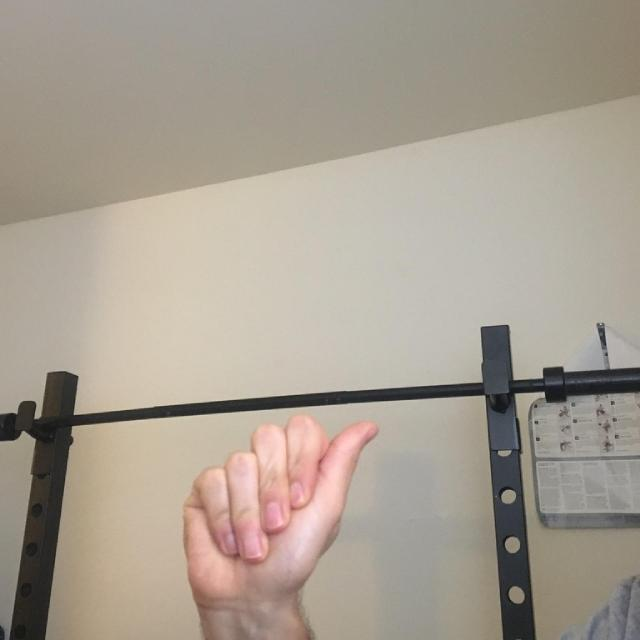A: (130, 405, 478, 640)
